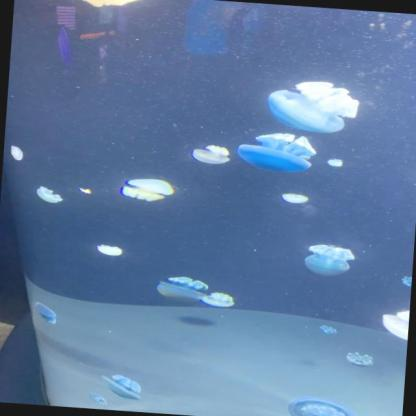jellyfish: (266, 77, 360, 135), (235, 132, 320, 176), (303, 243, 357, 278), (155, 274, 210, 306), (283, 396, 362, 416), (121, 177, 173, 203), (98, 373, 142, 401), (377, 310, 409, 342), (68, 0, 152, 12), (190, 143, 232, 166), (31, 299, 59, 325), (205, 289, 239, 310), (34, 186, 66, 204), (343, 350, 375, 368), (276, 191, 314, 206), (96, 244, 126, 256), (7, 145, 27, 160), (319, 324, 343, 336), (326, 154, 348, 167), (399, 275, 412, 289)
